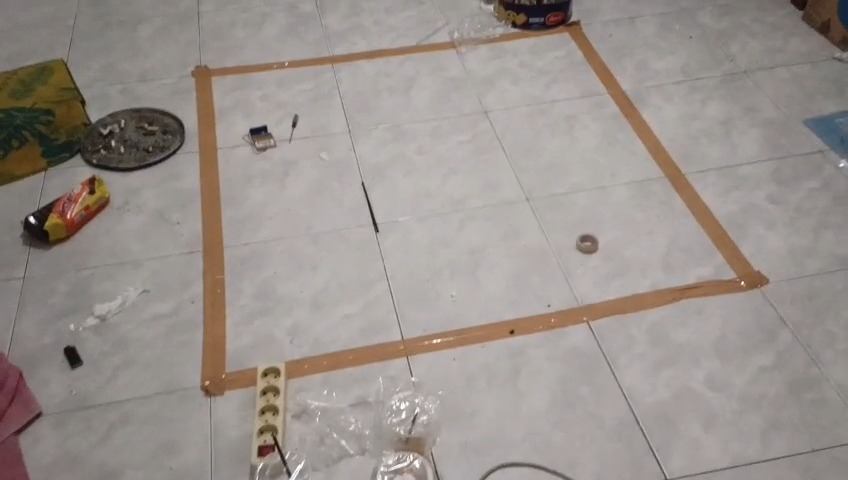floor marking: (286, 25, 768, 377), (192, 42, 451, 395)
